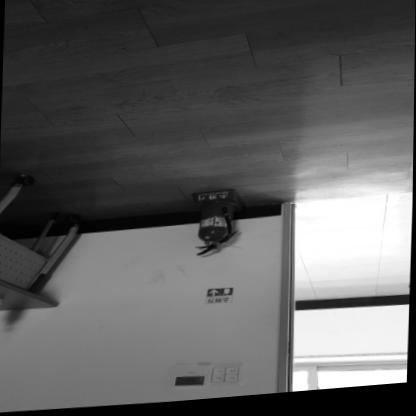FE: (189, 189, 243, 260)
